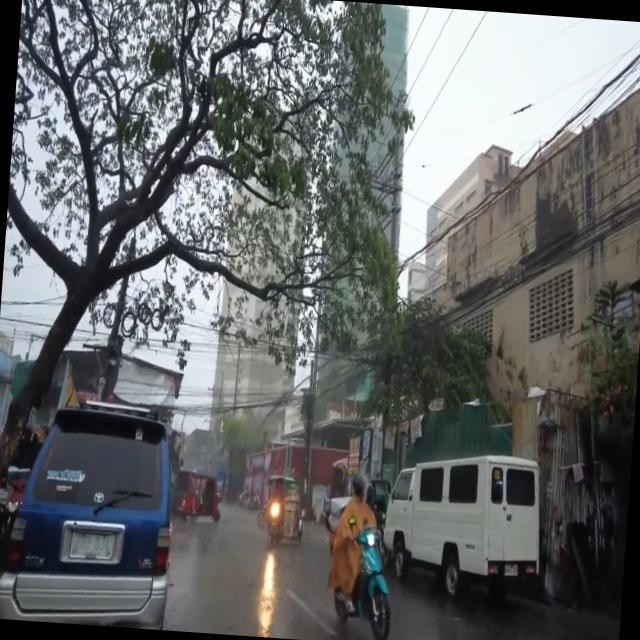half: (351, 470, 368, 501)
